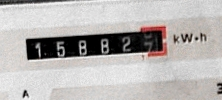1: (32, 39, 43, 58)
2: (120, 34, 132, 52)
5: (54, 39, 66, 57)
7: (142, 40, 154, 51)
8: (75, 37, 88, 55), (98, 36, 110, 54)
screen: (17, 21, 173, 68)
